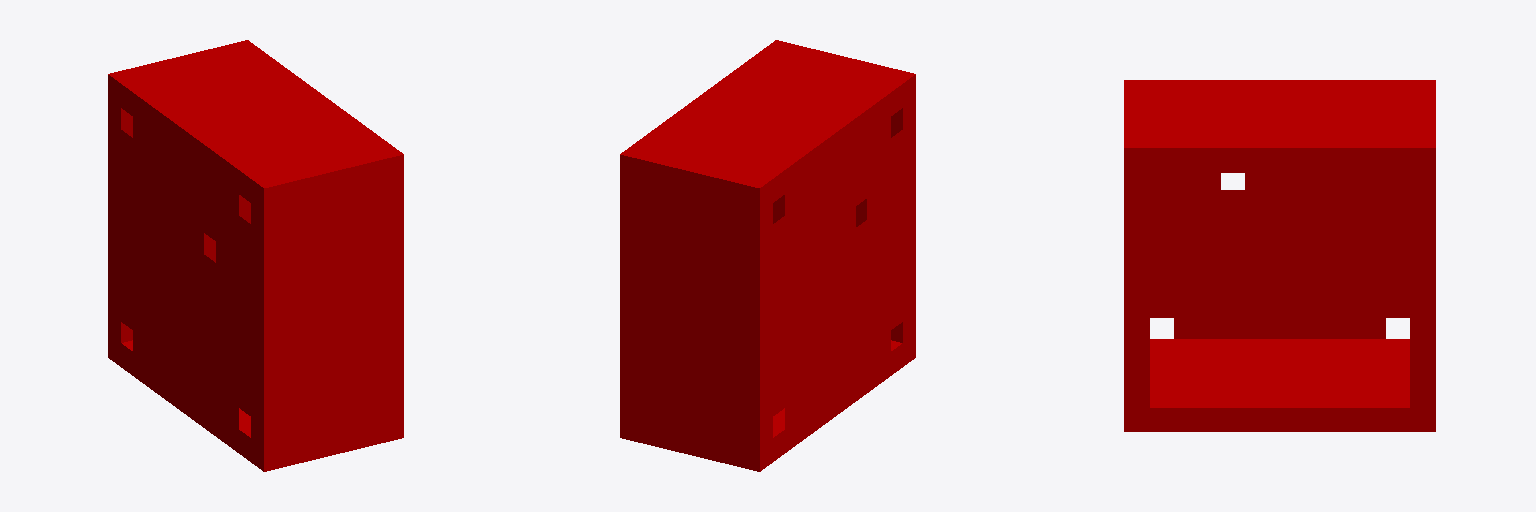
Rendered from testCube.obj.
3 renders of one model, left to right at view 1: azimuth 30°, elevation 25°; view 2: azimuth 150°, elevation 25°; view 3: azimuth 270°, elevation 25°, orthographic.
Visible parts, largest first — view 1: Cube; view 2: Cube; view 3: Cube.
Boxes of the visible parts, x1,y1,x2,y2 form: Cube: [108, 40, 403, 471]; Cube: [620, 40, 915, 471]; Cube: [1124, 80, 1435, 431].
Size of the model in its own units: 1.03 by 2 by 2.